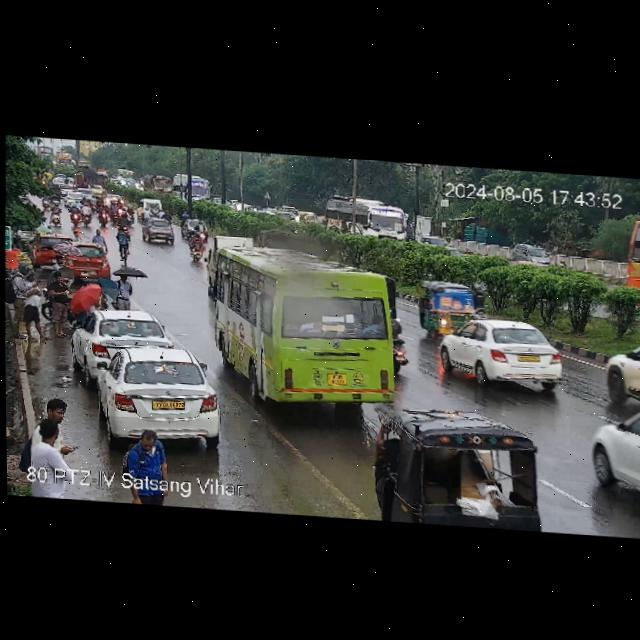bus: (209, 236, 410, 409), (323, 197, 405, 239), (625, 217, 640, 294), (170, 173, 212, 200)
car: (387, 405, 546, 527), (95, 344, 220, 444), (440, 314, 564, 388), (77, 306, 171, 374), (582, 399, 640, 498), (416, 277, 479, 335), (70, 241, 112, 276), (32, 230, 72, 263), (512, 243, 556, 265), (141, 217, 176, 243), (140, 198, 162, 217), (300, 209, 318, 223)
motorcycle: (182, 213, 214, 259), (18, 191, 62, 213), (96, 194, 122, 225), (115, 224, 131, 268), (81, 166, 105, 190), (76, 198, 92, 227), (69, 200, 83, 223)
person: (29, 411, 74, 472), (124, 428, 171, 477), (9, 264, 30, 337), (25, 266, 43, 341), (49, 271, 68, 339), (39, 399, 72, 435), (113, 275, 138, 309), (89, 281, 108, 304), (93, 230, 109, 248)
truck: (600, 337, 640, 414), (143, 175, 173, 197)
